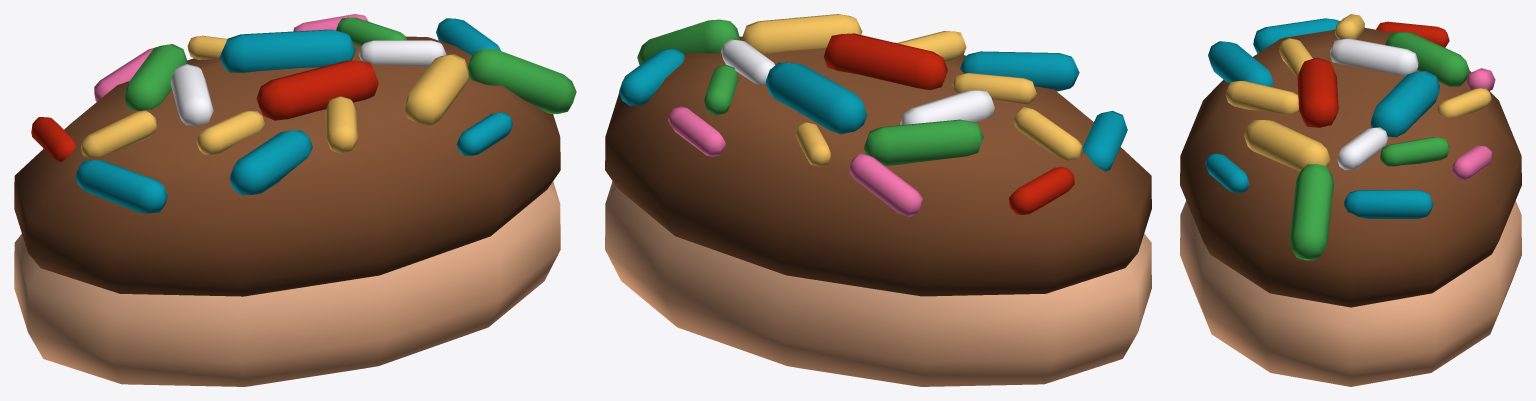
Rendered from candy_choco_30.fbx.
3 views of the same model, side by side, from view 1: azimuth 30°, elevation 25°; view 2: azimuth 150°, elevation 25°; view 3: azimuth 270°, elevation 25° (orthographic). The views are drawn at different scales.
Visible parts, largest first — view 1: c_c_30; view 2: c_c_30; view 3: c_c_30.
Part boxes in pixels (x1,y1,x2,y2): c_c_30: [14, 14, 576, 386]; c_c_30: [605, 14, 1151, 386]; c_c_30: [1180, 14, 1521, 386].
Bounding box in the file's own units: 181 × 84.04 × 117.
